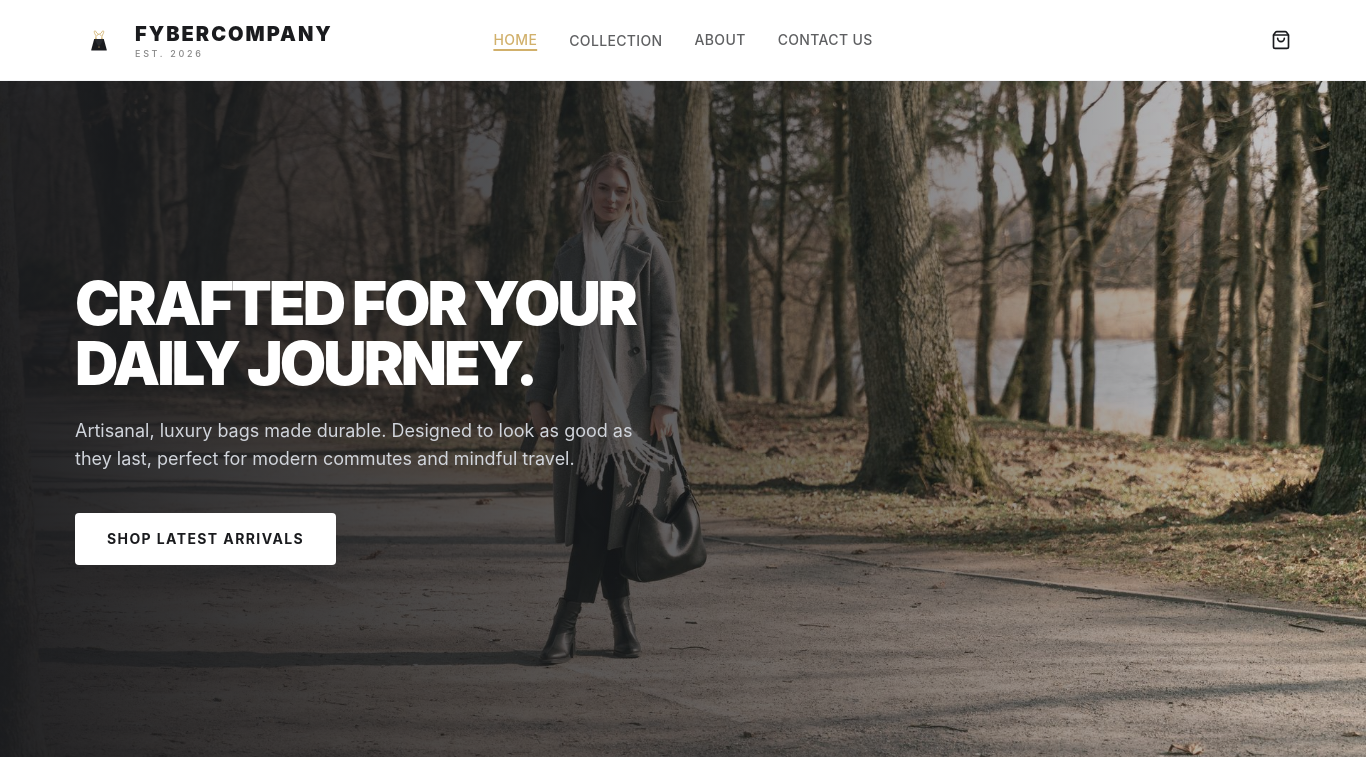
Test: App routing › opens the cart drawer from the header
Click the button: [1281, 40] box top-left (1263, 22), bottom-right (1299, 58)
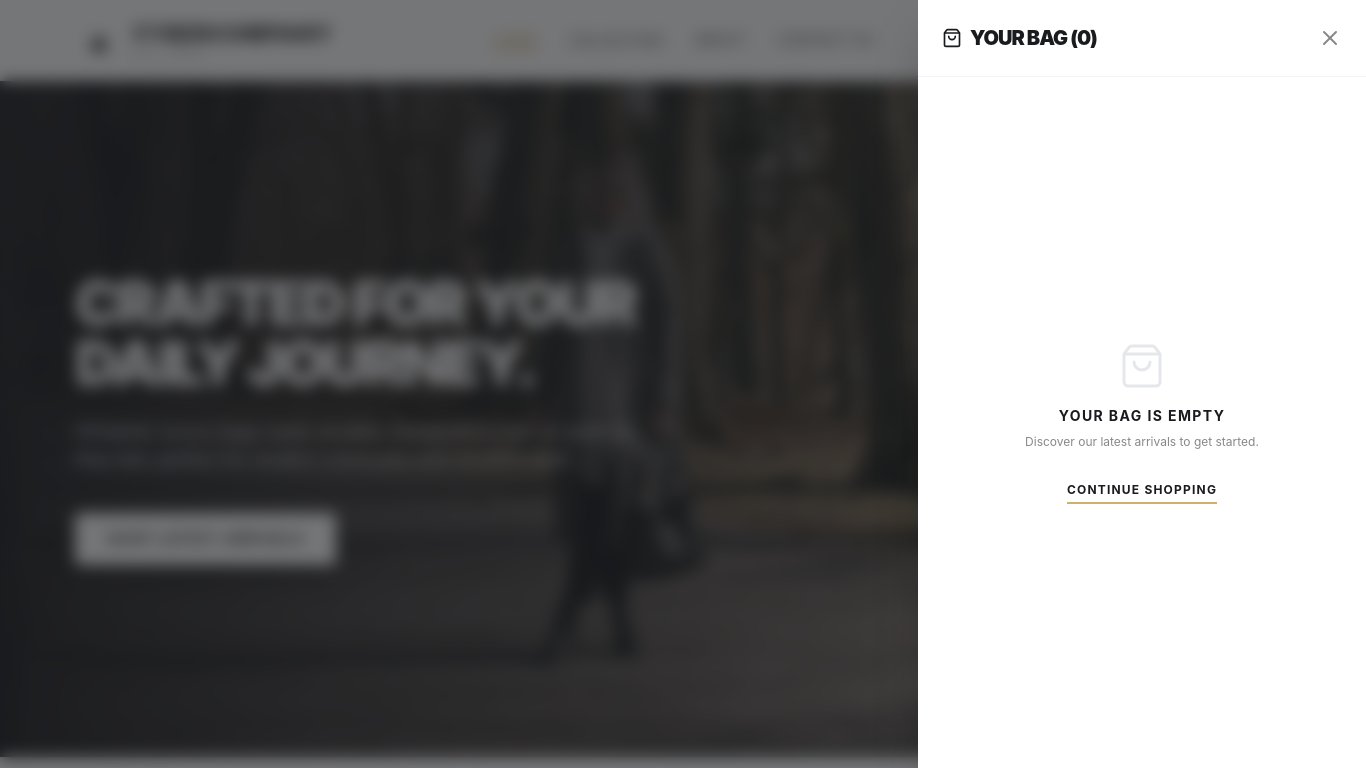
Expected: the dialog named "Shopping Cart" is shown
Expected: the text "Your bag is empty" is shown, top-left (1059, 406), bottom-right (1225, 426)
